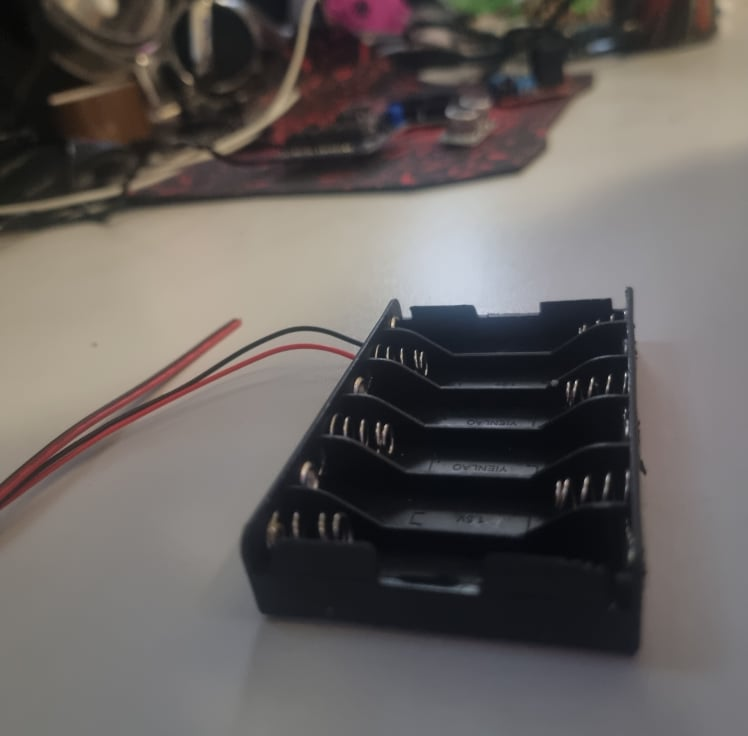BATTERY BOX: (240, 289, 644, 657)
